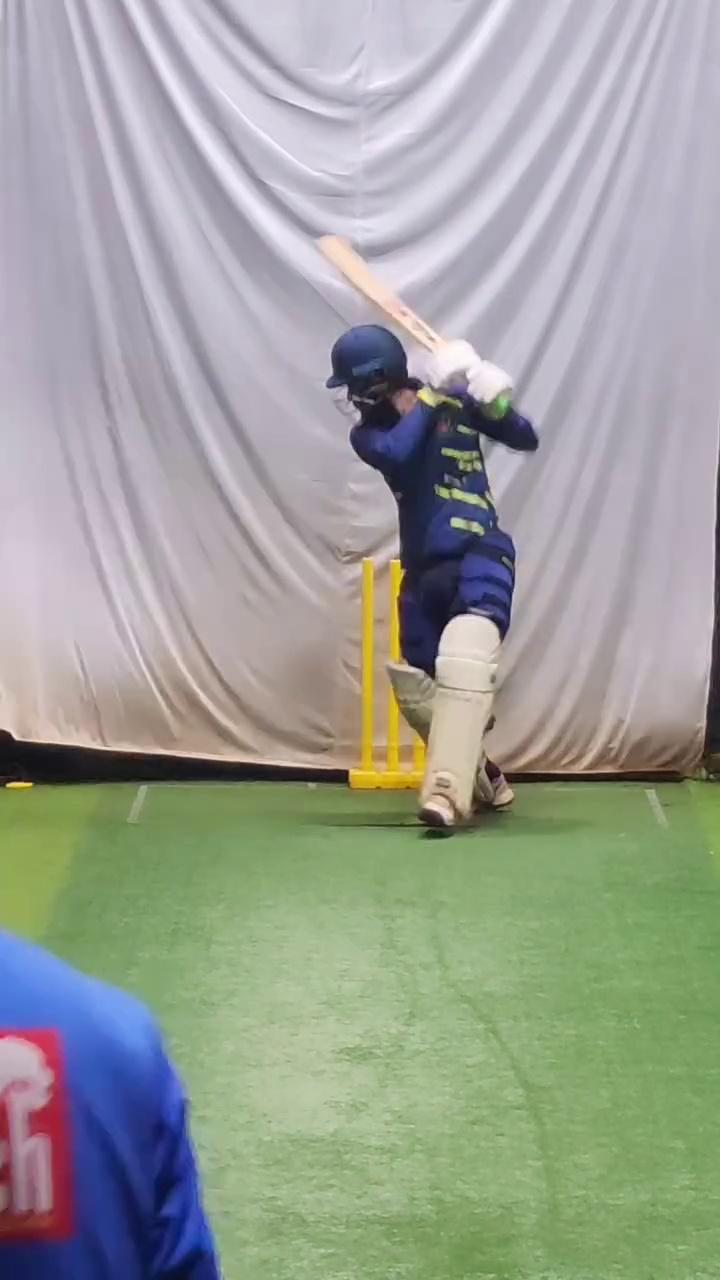bat: (314, 224, 445, 360)
